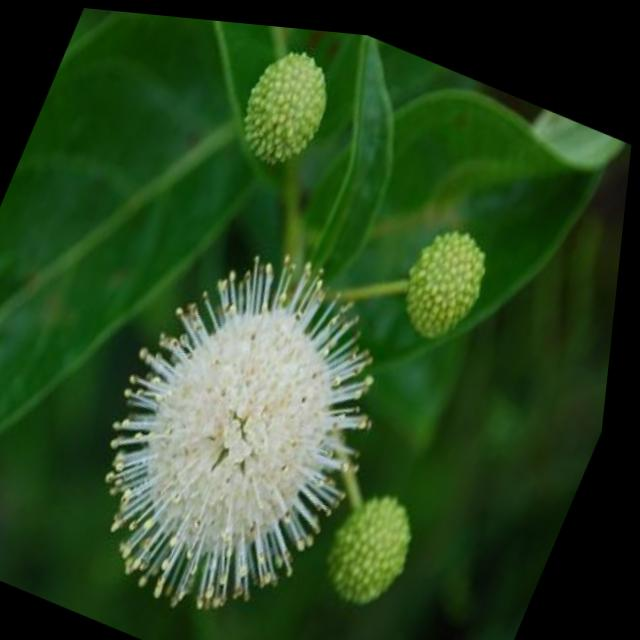Flower: (60, 201, 429, 640)
